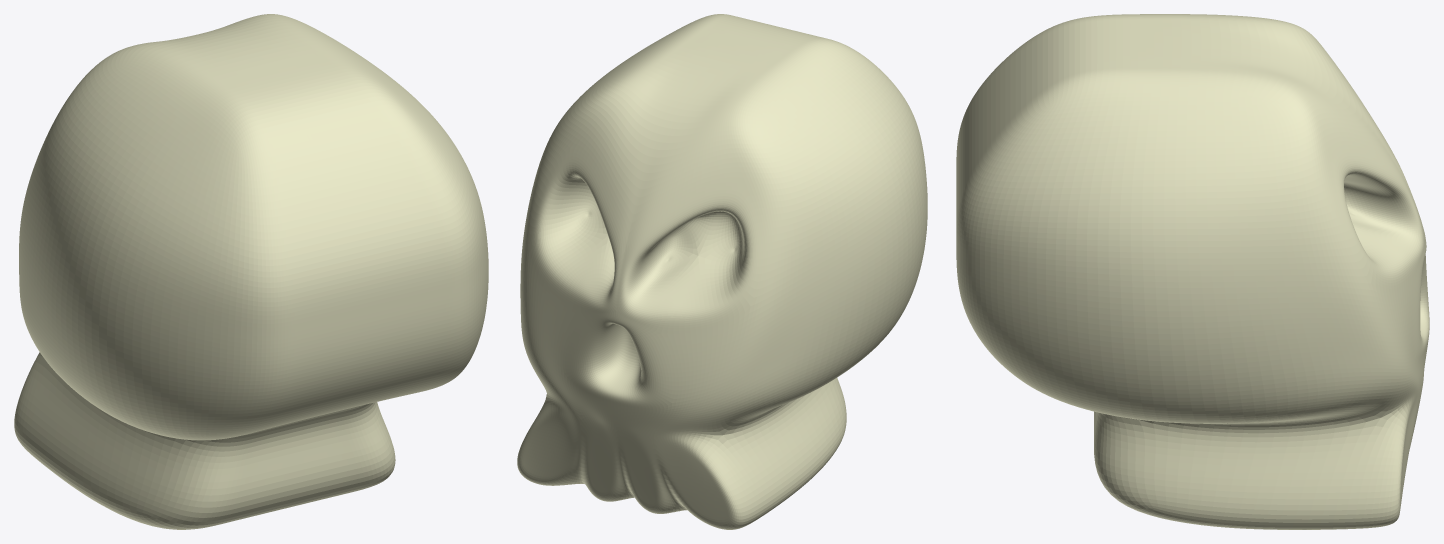
Rendered from calavere.fbx.
3 views of the same model, side by side, from view 1: azimuth 30°, elevation 25°; view 2: azimuth 150°, elevation 25°; view 3: azimuth 270°, elevation 25° (orthographic). The views are drawn at different scales.
Visible parts, largest first — view 1: Cube.001; view 2: Cube.001; view 3: Cube.001.
Boxes of the visible parts, left/top/right/bottom form: Cube.001: left=14, top=14, right=488, bottom=529; Cube.001: left=517, top=14, right=927, bottom=529; Cube.001: left=956, top=14, right=1429, bottom=529.
Size of the model in its own units: 2.29 by 2.6 by 2.57.
